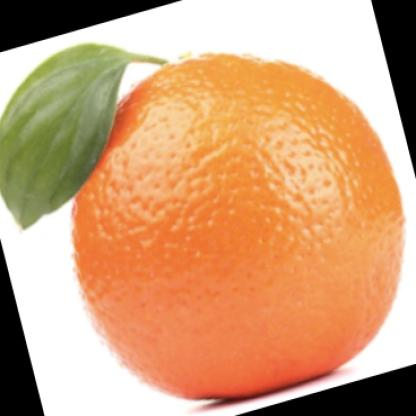fresh: (67, 54, 406, 405)
